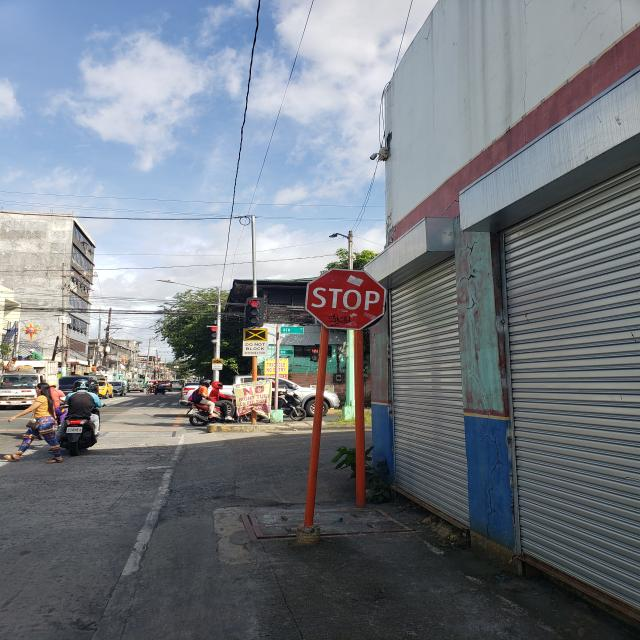stop-sign: (304, 268, 387, 330)
